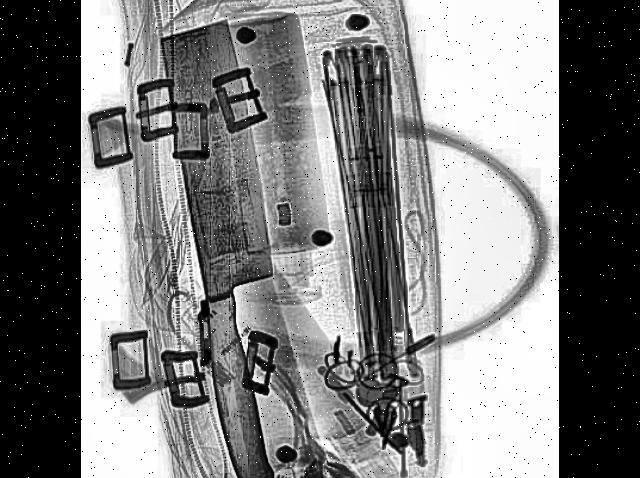Knife: (151, 7, 316, 478)
